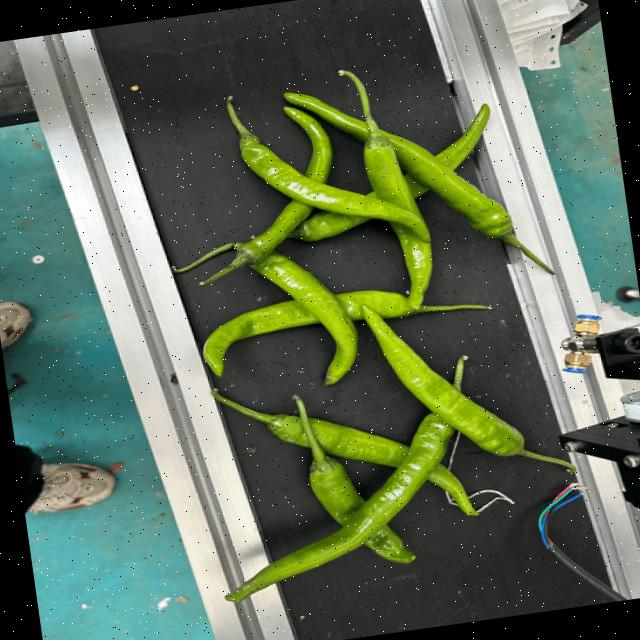chili: (219, 387, 464, 604), (278, 91, 514, 240), (296, 100, 491, 244), (358, 301, 526, 459), (266, 411, 482, 517), (237, 131, 430, 245), (200, 288, 418, 382), (235, 239, 360, 389), (232, 104, 334, 268), (306, 455, 420, 566), (363, 134, 432, 313)
